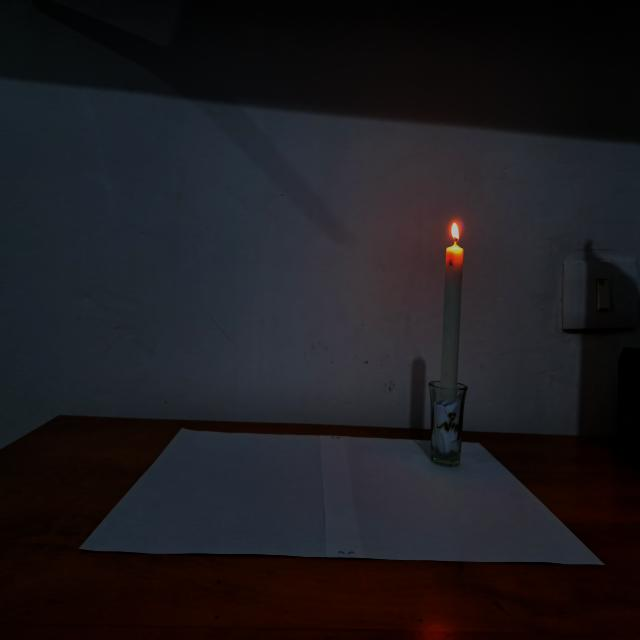candle: (427, 204, 471, 472)
